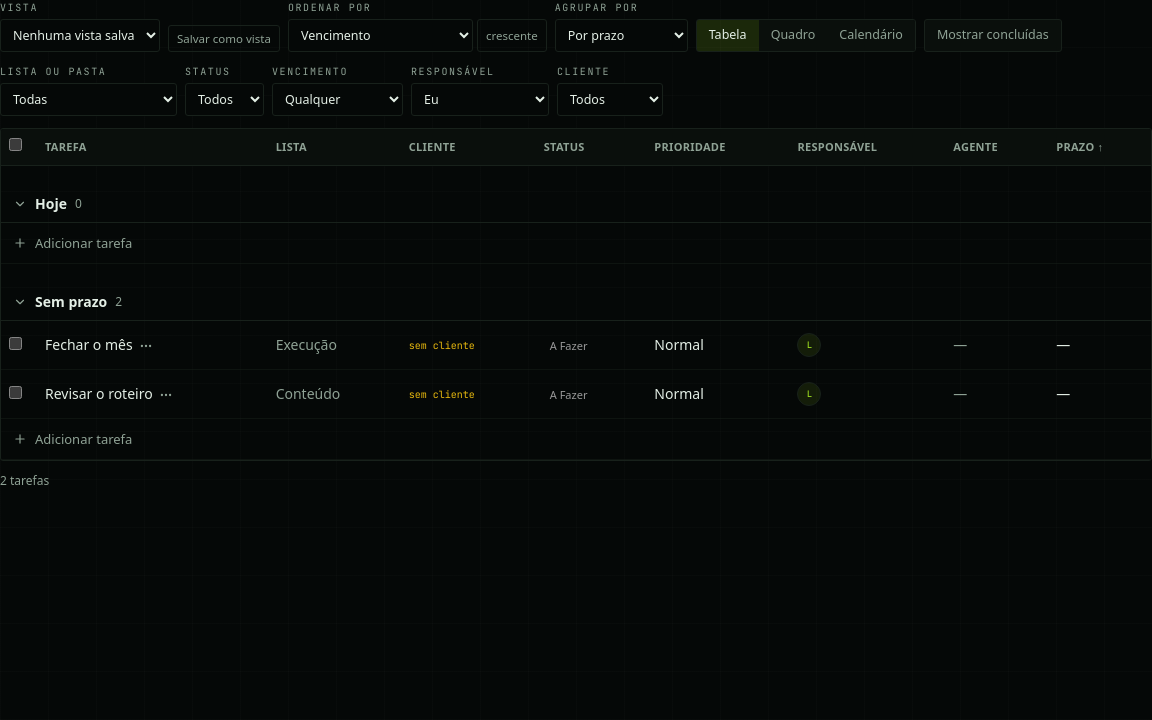
Test: Layout 26/10: Minhas tarefas vê as tarefas de outra pessoa › "Por responsável" está no Agrupar
Expected: the row with test id "caixa-tarefa-t-1" is shown, x1=1 y1=320 x2=1151 y2=370
Select "Por responsável" in the dropdown with test id "caixa-agrupar" at (621, 36), box x1=555 y1=19 x2=688 y2=52
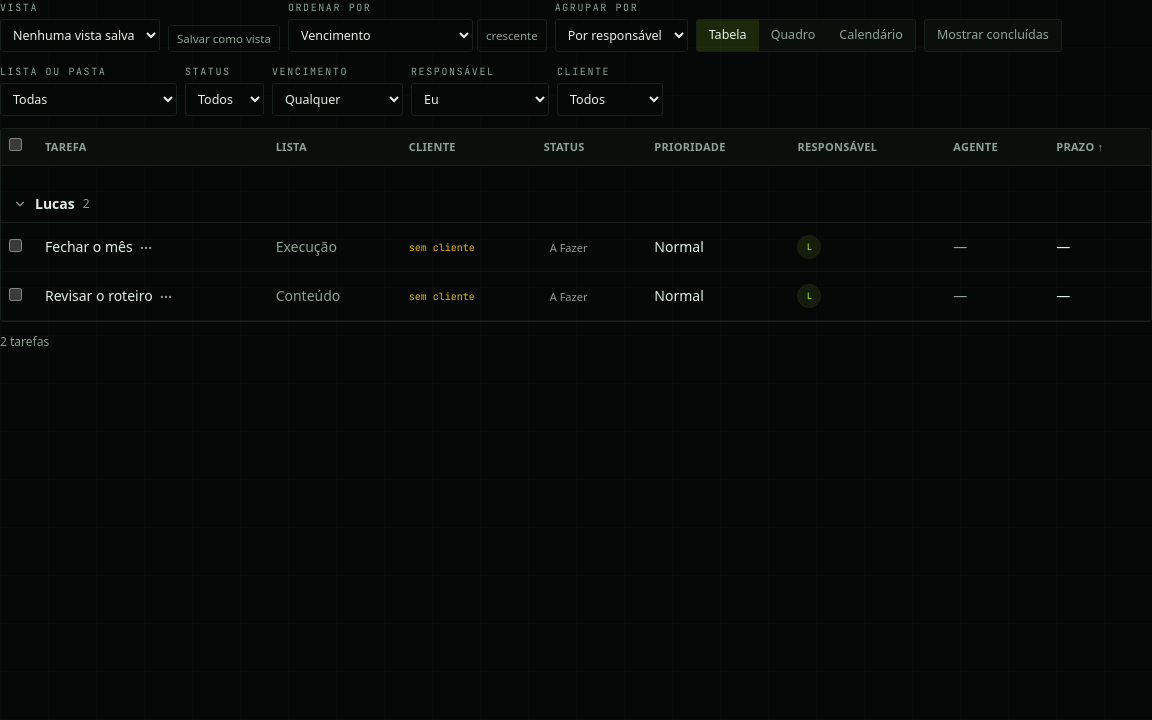
Expected: the table is shown, x1=1 y1=166 x2=1151 y2=320
